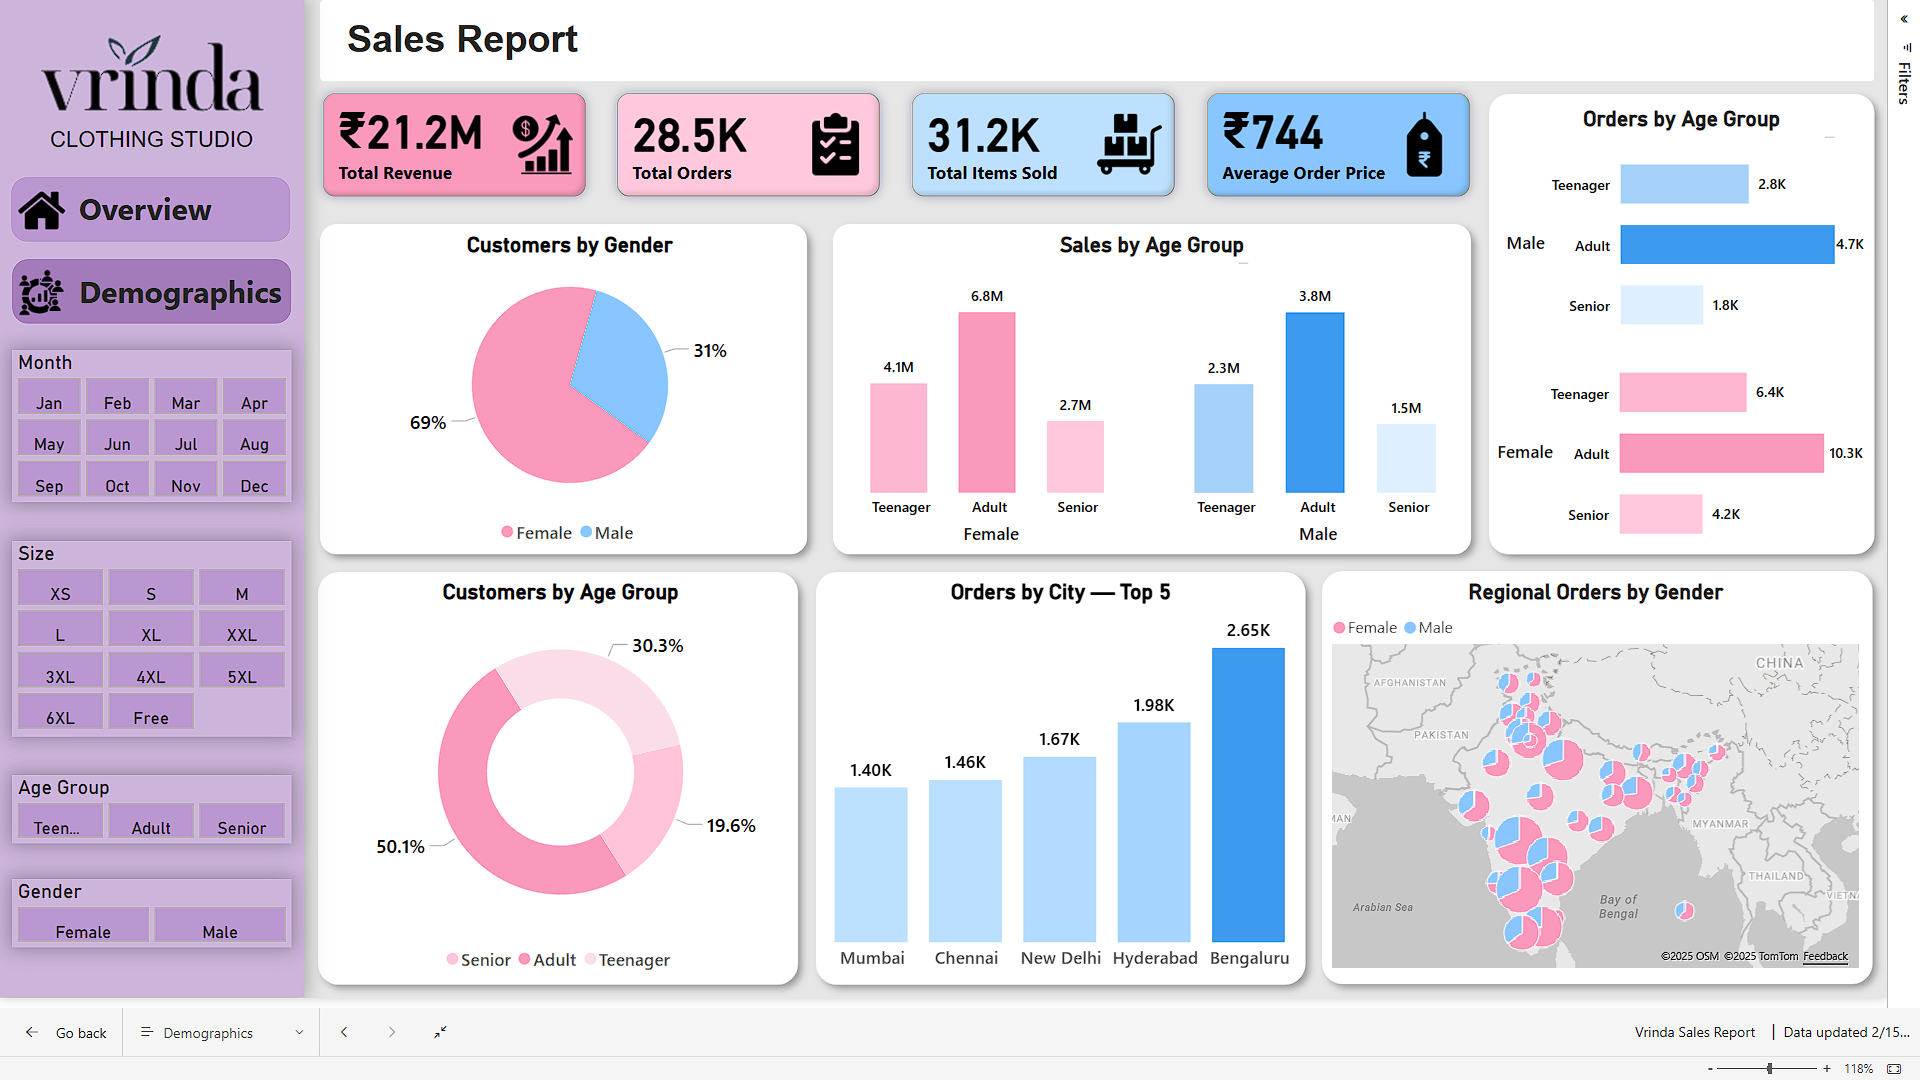

What the dashboard file says about the page in this screenshot:
{"tool":"powerbi","page":{"name":"Demographics","canvas":[1600,846],"ordinal":1},"visuals":[{"type":"shape","box":[1251.1,68.9,348.9,412.2],"z":0},{"type":"shape","box":[10,220,237,55],"z":0,"group":"g1"},{"type":"image","box":[10,223,50,50],"z":1000,"group":"g1"},{"type":"shape","box":[259,474,429,372],"z":1000},{"type":"shape","title":"Demographics","box":[67,230,179,48],"z":2000,"group":"g1"},{"type":"shape","box":[1110,473.3,488.9,372.2],"z":2000},{"type":"shape","box":[271,0,1318,69],"z":3000},{"type":"textbox","box":[257.3,10,270,53.6],"z":4000},{"type":"cardVisual","fields":{"Data":["_Measure.Total Revenue"]},"box":[258,63,255,120.2],"z":5000},{"type":"cardVisual","fields":{"Data":["_Measure.Orders"]},"box":[507,63,255,120.2],"z":6000},{"type":"cardVisual","fields":{"Data":["_Measure.Items Sold"]},"box":[757,63,255,120.2],"z":7000},{"type":"cardVisual","fields":{"Data":["_Measure.Avg Order Value"]},"box":[1007,63,255,120],"z":8000},{"type":"shape","box":[260,179,435,302],"z":9000},{"type":"shape","box":[695,179,563,302],"z":10000},{"type":"columnChart","title":"Sales by Age Group","fields":{"Category":["Vrinda Store.Age Group"],"Y":["_Measure.Female"]},"box":[703.3,228.9,272.2,218.9],"z":11000},{"type":"azureMap","title":"Regional Orders by Gender","fields":{"Category":["Vrinda Store.ship-state"],"Series":["Vrinda Store.Gender"],"Size":["_Measure.Total Orders"]},"box":[1117.8,491.1,471.1,342.2],"z":12000},{"type":"donutChart","title":"Customers by Age Group","fields":{"Category":["Vrinda Store.Age Group"],"Y":["CountNonNull(Vrinda Store.Age Group)"]},"box":[271,491,408,342],"z":13000},{"type":"shape","box":[681,474,437,372],"z":14000},{"type":"columnChart","title":"Orders by City — Top 5","fields":{"Category":["Vrinda Store.City"],"Y":["_Measure.Total Orders"]},"box":[671,491,458,342],"z":15000},{"type":"pieChart","title":"Customers by Gender","fields":{"Category":["Vrinda Store.Gender"],"Y":["CountNonNull(Vrinda Store.Gender)"]},"box":[275,197,417,274],"z":16000},{"type":"columnChart","title":"Sales by Age Group","fields":{"Category":["Vrinda Store.Age Group"],"Y":["_Measure.Male"]},"box":[977,229,281,219],"z":17000},{"type":"textbox","title":"Sales by Age Group","box":[890,197,173,32],"z":18000},{"type":"textbox","title":"Female","box":[753,442,175,19],"z":19000},{"type":"textbox","title":"Male","box":[1030,442,175,19],"z":20000},{"type":"clusteredBarChart","title":"Sales by Age Group","fields":{"Category":["Vrinda Store.Age Group"],"Y":["_Measure.Male Orders"]},"box":[1308.8,106.2,276.2,197.5],"z":21000},{"type":"clusteredBarChart","title":"Sales by Age Group","fields":{"Category":["Vrinda Store.Age Group"],"Y":["_Measure.Female Orders"]},"box":[1308.5,282.5,276.2,198.8],"z":22000},{"type":"textbox","title":"Orders by Age Group","box":[1291,90,269,32],"z":23000},{"type":"textbox","title":"Male","box":[1257,195,74,19],"z":24000},{"type":"textbox","title":"Female","box":[1206,372,175,19],"z":25000},{"type":"shape","box":[0,0,258,845],"z":26000},{"type":"image","box":[29,15,200,88],"z":27000},{"type":"textbox","box":[0,103,257,52],"z":28000},{"type":"advancedSlicerVisual","title":"Month","fields":{"Values":["Date Table.Month Name"]},"box":[10,297,237,129],"z":29000},{"type":"advancedSlicerVisual","fields":{"Values":["Vrinda Store.Size"]},"box":[10,459,237,166],"z":30000},{"type":"advancedSlicerVisual","fields":{"Values":["Vrinda Store.Age Group"]},"box":[10,657,237,58],"z":31000},{"type":"advancedSlicerVisual","fields":{"Values":["Vrinda Store.Gender"]},"box":[10,745,237,58],"z":32000},{"type":"shape","title":"Overview","box":[9,150,237,55],"z":33000,"group":"g2"},{"type":"group","id":"g1","title":"Group 1","box":[10,220,237,58],"z":33000},{"type":"shape","title":"Overview","box":[10,151,237,55],"z":34000},{"type":"image","box":[9,153,51,50],"z":34000,"group":"g2"},{"type":"group","id":"g2","title":"Group 2","box":[9,150,238,57],"z":35000},{"type":"shape","title":"Overview","box":[67,159,180,48],"z":37000,"group":"g2"}]}

Visuals, with their boxes on the page's 1600x846 design canvas (x1, y1, x2, y2). These are canvas units, not pixel positions in the 1920x1080 screenshot, which may show the page scaled, cropped or inside an application window:
shape: (1251,69,1600,481)
shape: (10,220,247,275)
image: (10,223,60,273)
shape: (259,474,688,846)
"Demographics" shape: (67,230,246,278)
shape: (1110,473,1599,846)
shape: (271,0,1589,69)
textbox: (257,10,527,64)
cardVisual - _Measure.Total Revenue: (258,63,513,183)
cardVisual - _Measure.Orders: (507,63,762,183)
cardVisual - _Measure.Items Sold: (757,63,1012,183)
cardVisual - _Measure.Avg Order Value: (1007,63,1262,183)
shape: (260,179,695,481)
shape: (695,179,1258,481)
"Sales by Age Group" columnChart: (703,229,976,448)
"Regional Orders by Gender" azureMap: (1118,491,1589,833)
"Customers by Age Group" donutChart: (271,491,679,833)
shape: (681,474,1118,846)
"Orders by City — Top 5" columnChart: (671,491,1129,833)
"Customers by Gender" pieChart: (275,197,692,471)
"Sales by Age Group" columnChart: (977,229,1258,448)
"Sales by Age Group" textbox: (890,197,1063,229)
"Female" textbox: (753,442,928,461)
"Male" textbox: (1030,442,1205,461)
"Sales by Age Group" clusteredBarChart: (1309,106,1585,304)
"Sales by Age Group" clusteredBarChart: (1308,282,1585,481)
"Orders by Age Group" textbox: (1291,90,1560,122)
"Male" textbox: (1257,195,1331,214)
"Female" textbox: (1206,372,1381,391)
shape: (0,0,258,845)
image: (29,15,229,103)
textbox: (0,103,257,155)
"Month" advancedSlicerVisual: (10,297,247,426)
advancedSlicerVisual - Vrinda Store.Size: (10,459,247,625)
advancedSlicerVisual - Vrinda Store.Age Group: (10,657,247,715)
advancedSlicerVisual - Vrinda Store.Gender: (10,745,247,803)
"Overview" shape: (9,150,246,205)
"Group 1" group: (10,220,247,278)
"Overview" shape: (10,151,247,206)
image: (9,153,60,203)
"Group 2" group: (9,150,247,207)
"Overview" shape: (67,159,247,207)
